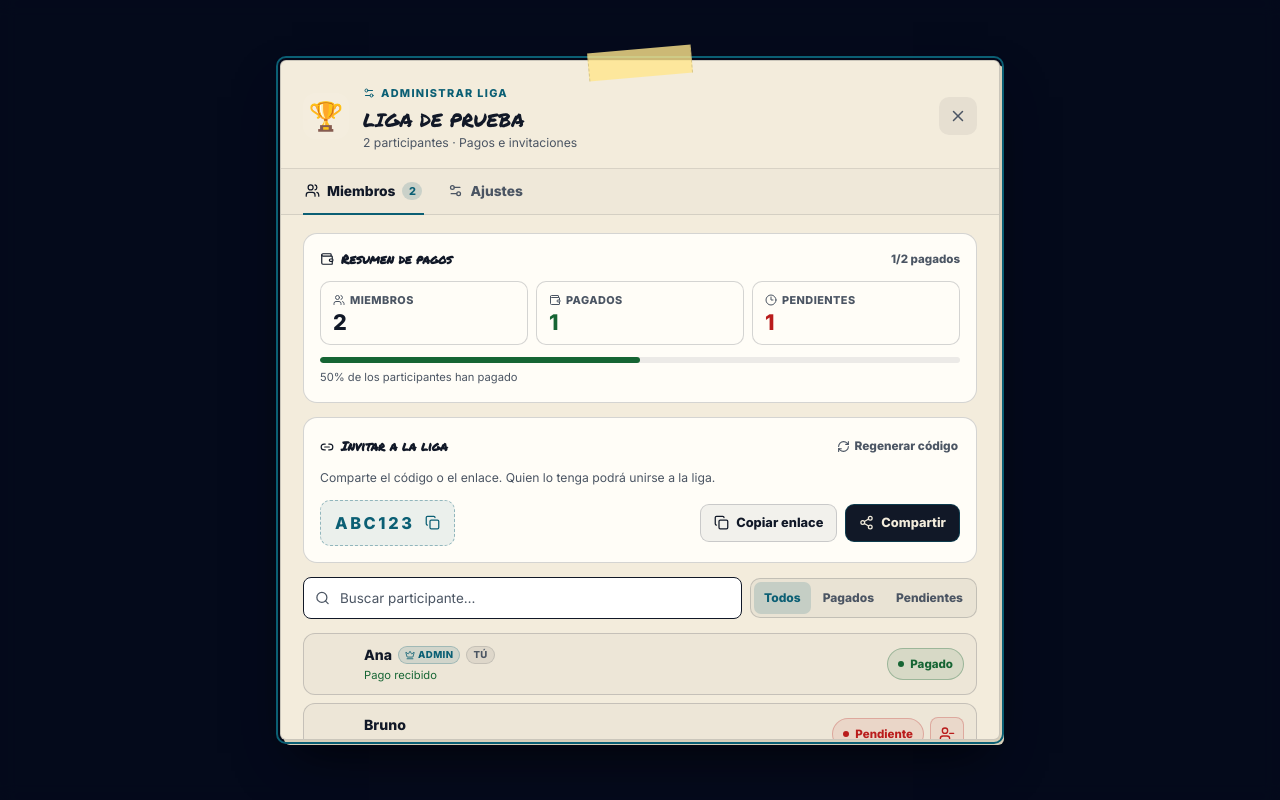
Test: GroupMembersModal › edita la puntuación y la guarda completa sin tocar nombre ni normas
The image size is (1280, 800).
Expected: the text "Bruno" is shown, [364,714,406,735]
Click the tab "Ajustes" at (486, 192), box [446,169,525,215]
(page scrolled)
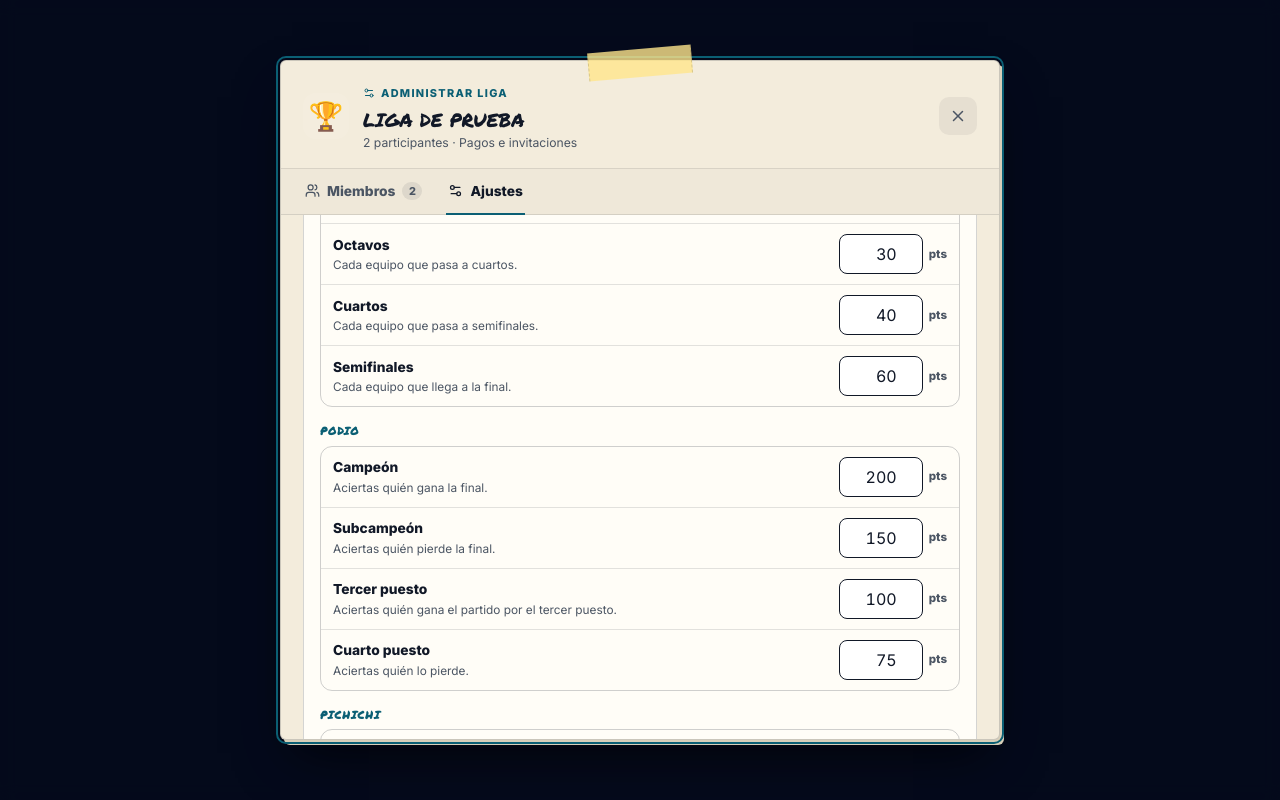
Replace the text in the number field labelled "Campeón" with "300" at (881, 477), box [839,457,923,497]
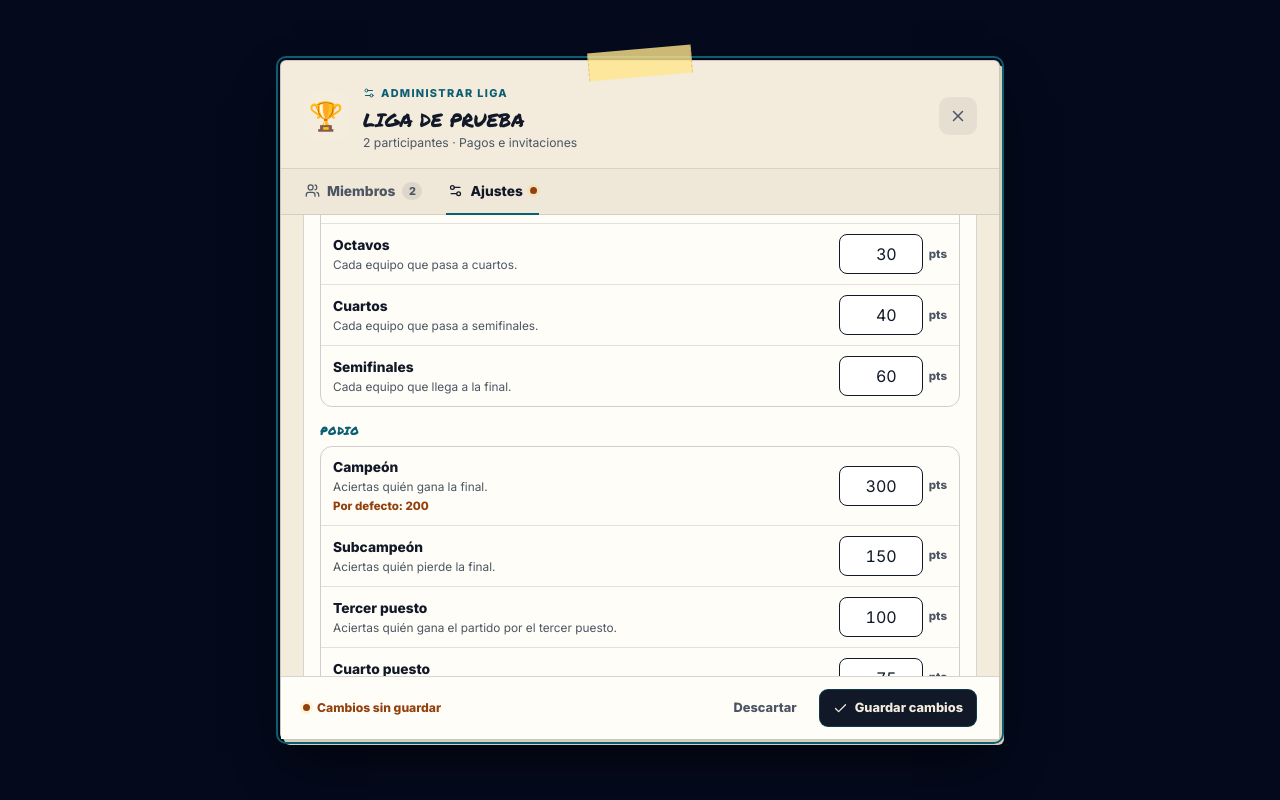
Expected: the text "Por defecto: 200" is shown, [333,499,429,513]
Click the button "Guardar cambios" at (898, 708), box [819,689,977,727]
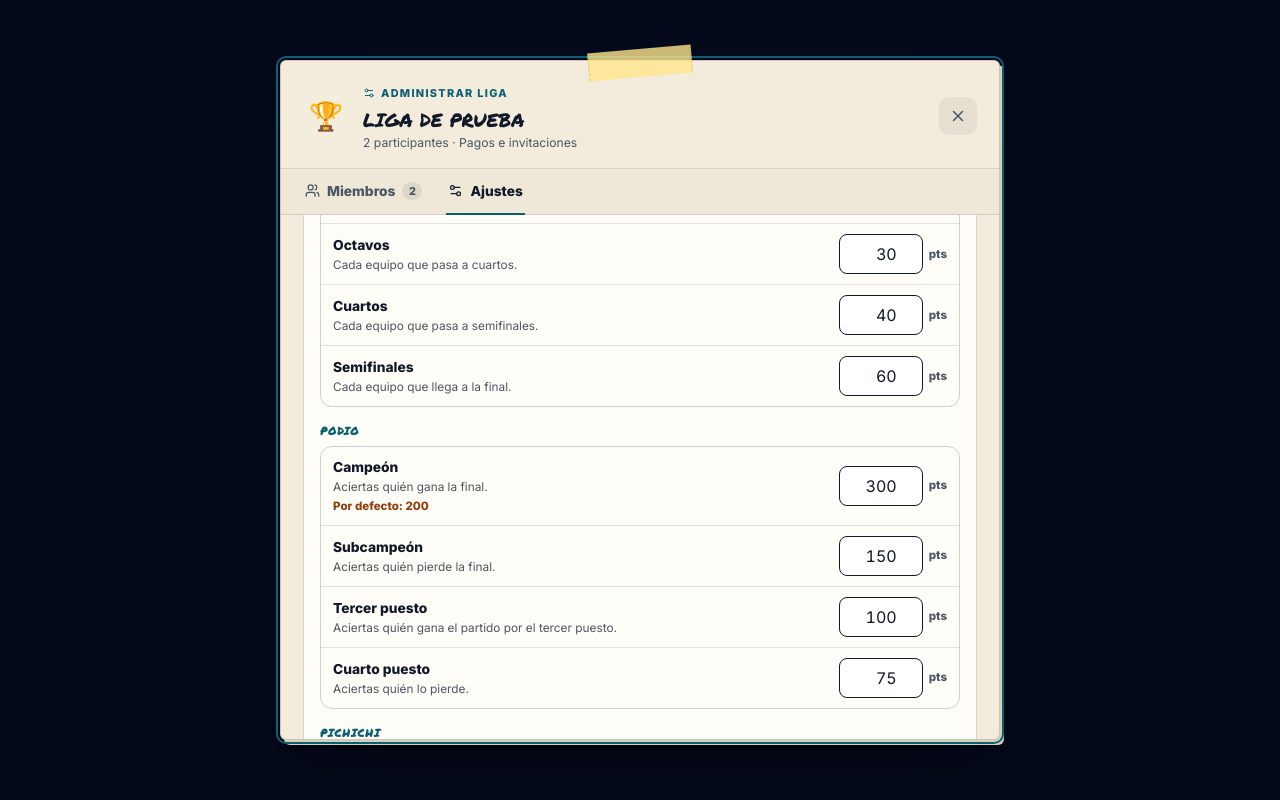
Expected: the button "Guardar cambios" is gone
